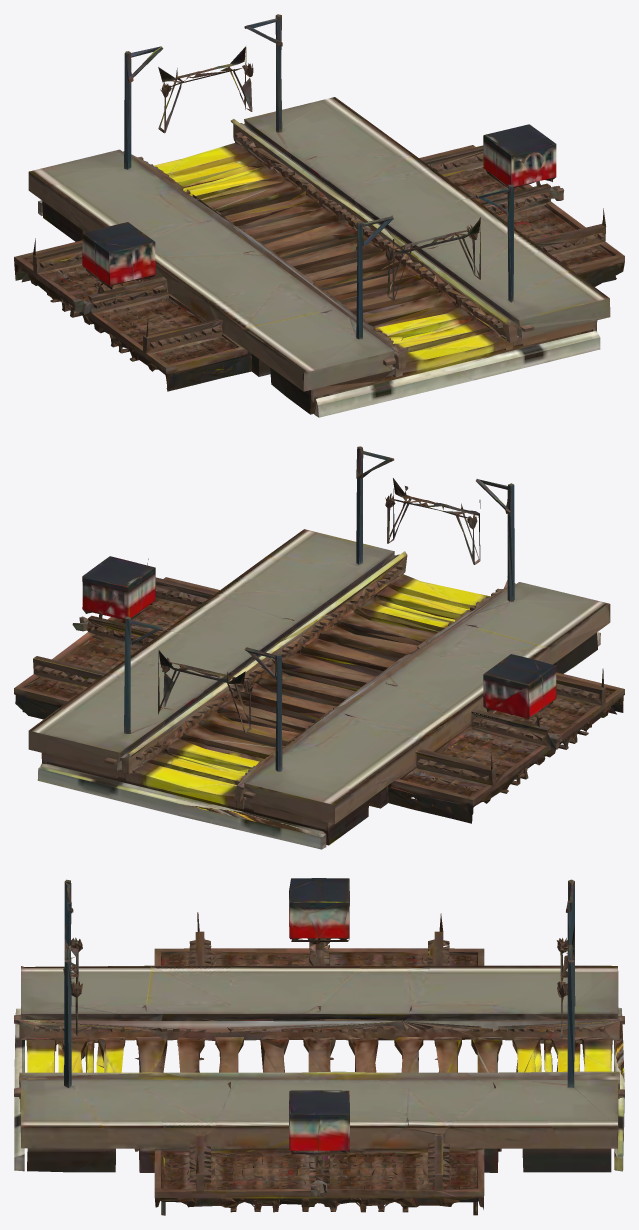
File: station_lane.glb
3 renders of one model, top to bottom at view 1: azimuth 30°, elevation 25°; view 2: azimuth 150°, elevation 25°; view 3: azimuth 270°, elevation 25°, orthographic. The views are drawn at different scales.
Visible parts, largest first — view 1: normalize; view 2: normalize; view 3: normalize.
Boxes of the visible parts, left/top/right/bottom form: normalize: left=14, top=14, right=624, bottom=417; normalize: left=14, top=446, right=624, bottom=849; normalize: left=14, top=878, right=624, bottom=1215.
Bounding box in the file's own units: 0.9972 × 0.3217 × 1.
1 material, 1 textured.
